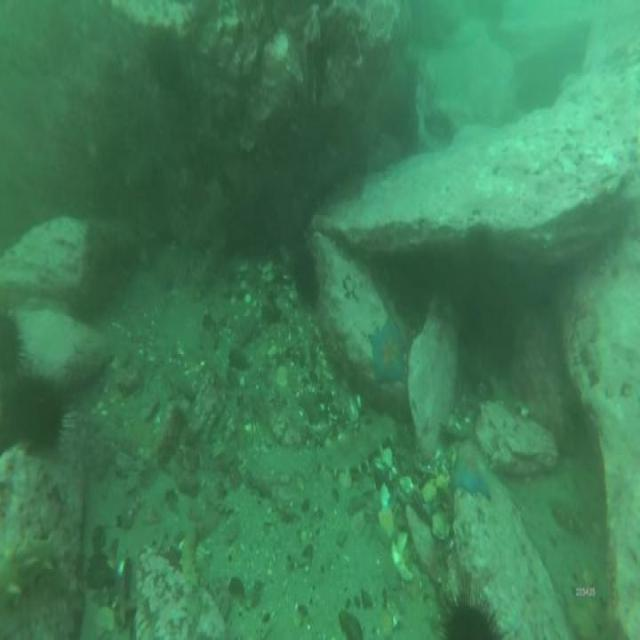echinus: (12, 378, 66, 453), (445, 602, 498, 640), (292, 245, 316, 307), (0, 314, 20, 369)
holothurian: (316, 414, 393, 474), (2, 534, 64, 604), (178, 528, 202, 591)
starfish: (371, 318, 408, 382), (452, 444, 492, 499)
